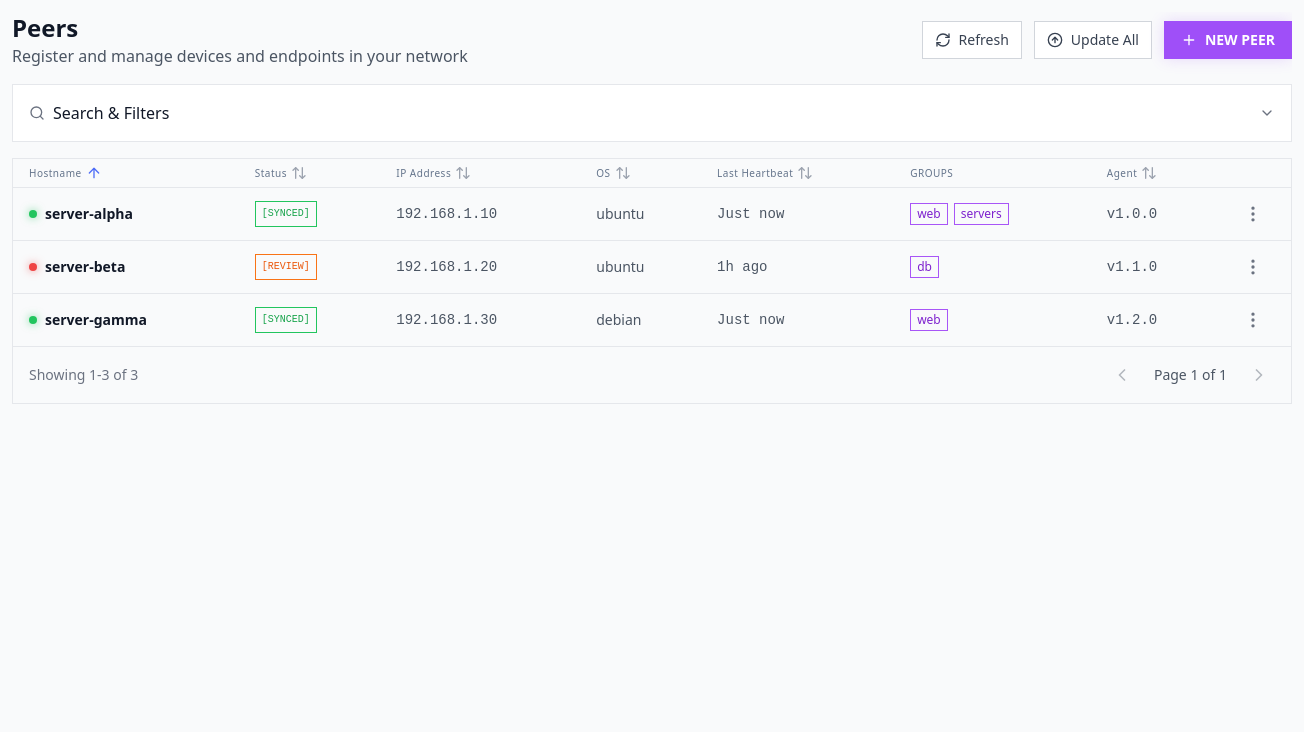
Scenario: Peers Page › Filter Controls › clicking status filter updates visible peers
Expected: the table is shown, [13, 188, 1291, 346]
Expected: the text "server-alpha" is shown, [45, 204, 133, 224]
Expand the Search & Filters panel first
Click the button "Search & Filters" at (111, 113), box [13, 85, 1291, 141]
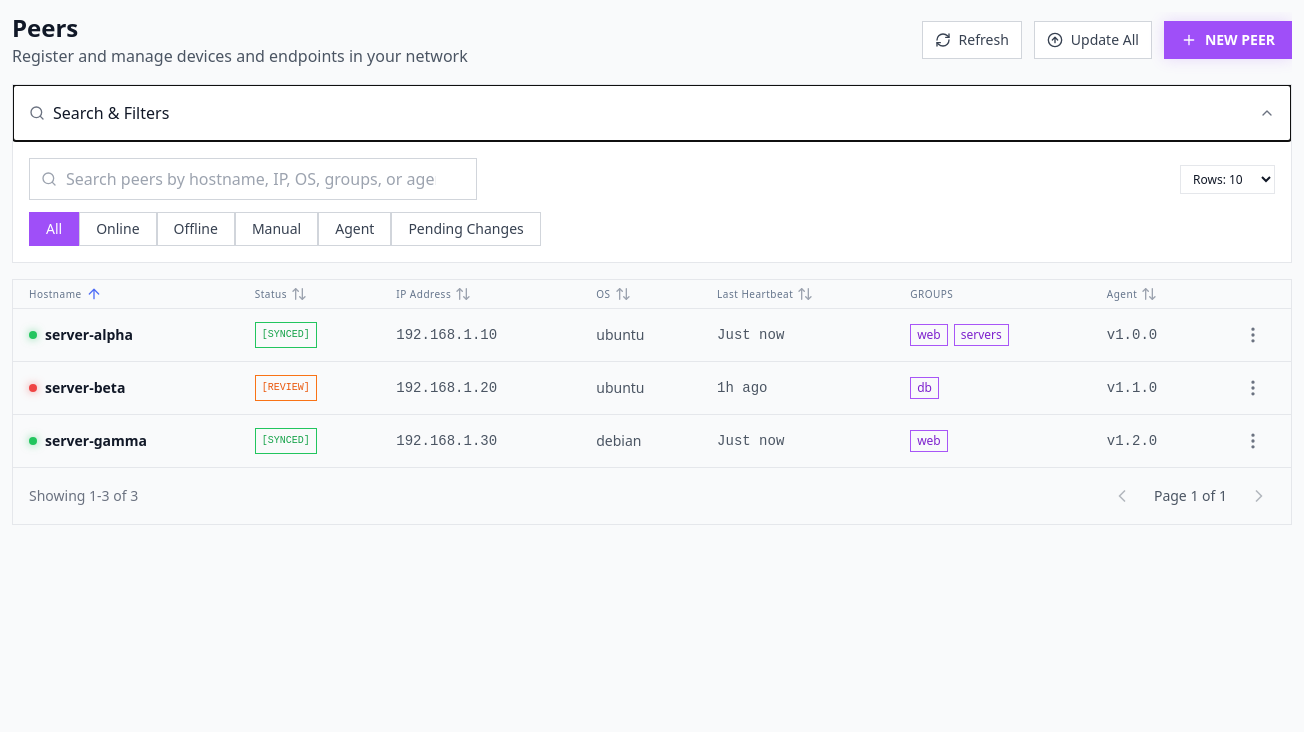
Now the button "Offline" is shown
Click Offline filter
Click the button "Offline" at (196, 229), box [156, 212, 235, 246]
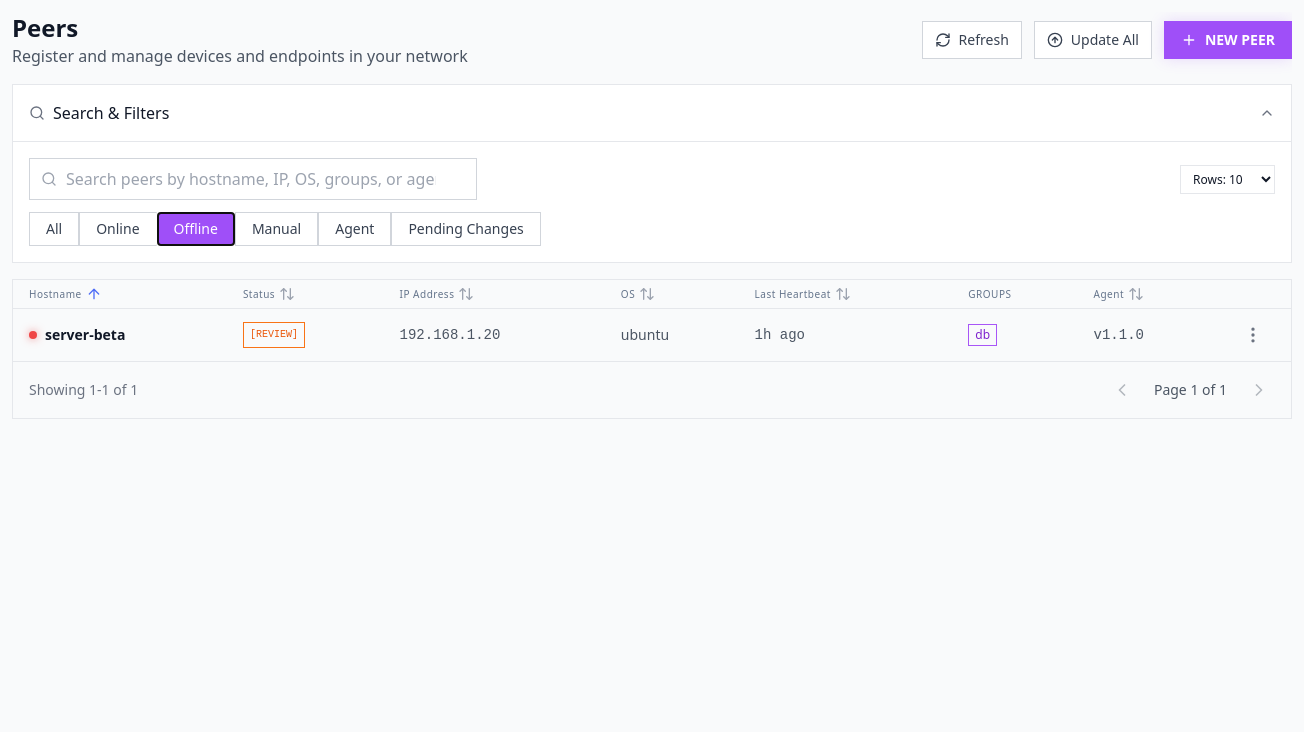
Expected: the text "server-beta" is shown, [45, 325, 125, 345]
Now the text "server-alpha" is gone
